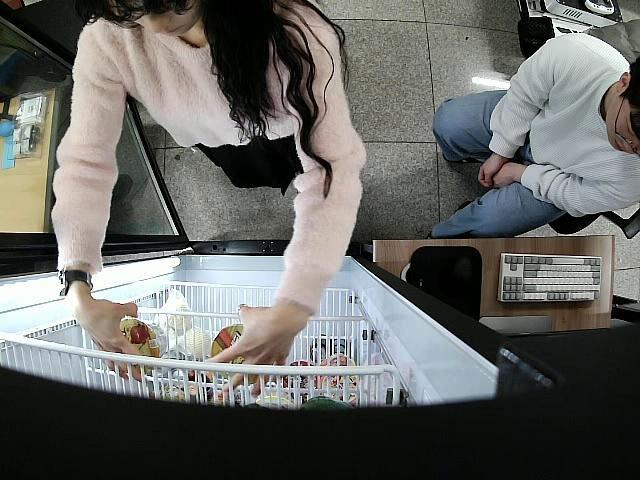04_chapagetti_S: (208, 324, 260, 382), (111, 316, 170, 357)
